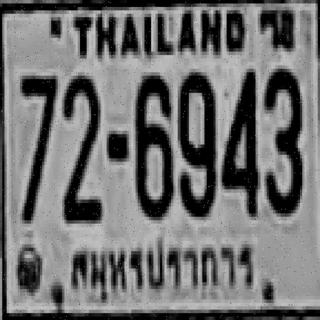N02: (61, 72, 102, 224)
N03: (262, 65, 303, 217)
N04: (220, 66, 261, 220)
N06: (134, 72, 174, 219)
N07: (20, 72, 56, 220)
N09: (178, 69, 218, 219)
P57: (71, 234, 257, 300)
